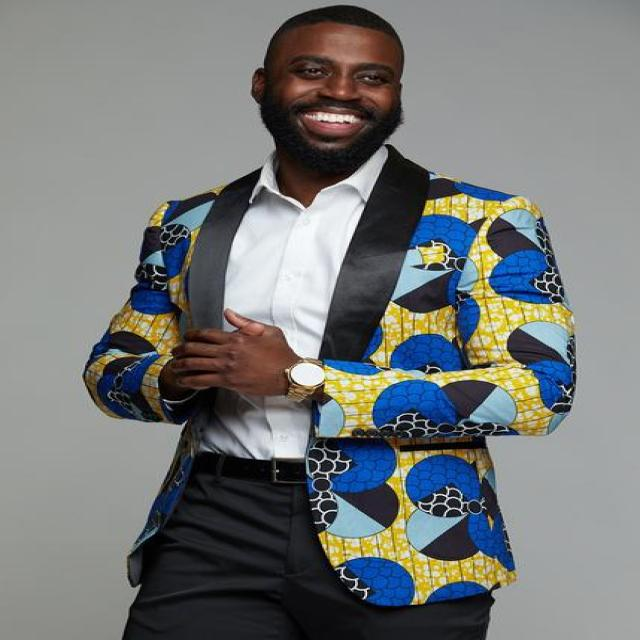human: (81, 31, 568, 638)
